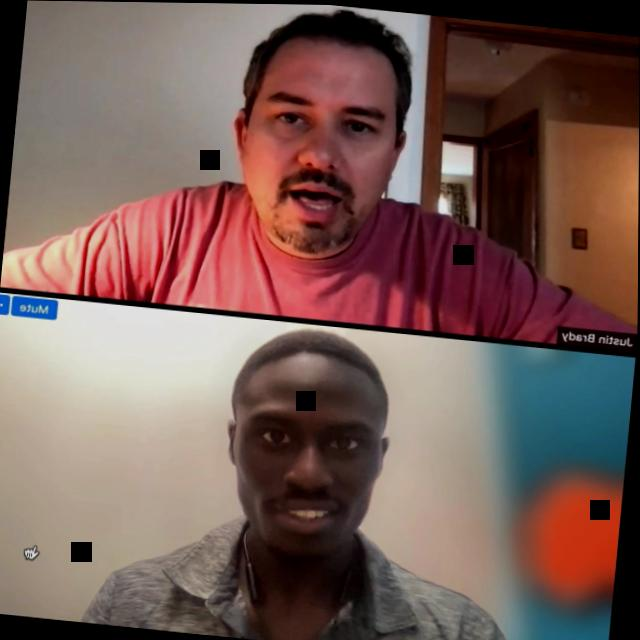NO-Mask: (222, 24, 414, 262), (213, 337, 397, 567)
